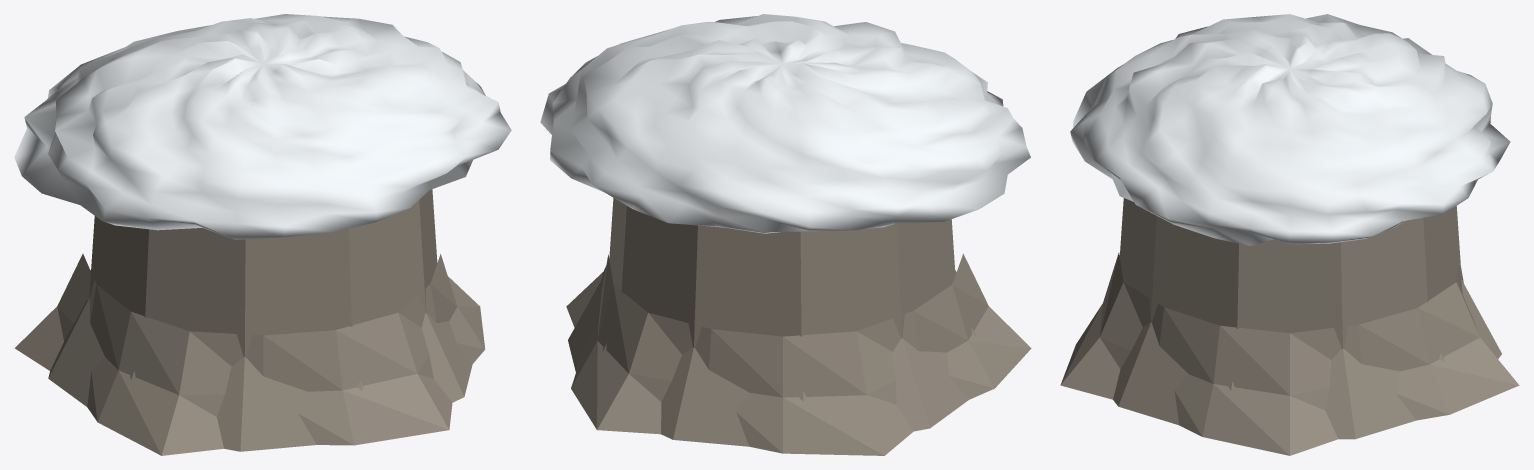
Rendered from alpine-and-arctic-biomes-snow-stump-8eb1179b__20944.glb.
The picture shows the model from 3 angles, left to right: view 1: azimuth 30°, elevation 25°; view 2: azimuth 150°, elevation 25°; view 3: azimuth 270°, elevation 25°; orthographic projection. The views are drawn at different scales.
Parts seen in each view (by area): view 1: snow-stump; view 2: snow-stump; view 3: snow-stump.
Part boxes in pixels (x1,y1,x2,y2): snow-stump: [14, 14, 511, 455]; snow-stump: [540, 14, 1031, 455]; snow-stump: [1060, 14, 1519, 455].
Bounding box in the file's own units: 0.9873 × 0.6539 × 0.9269.
